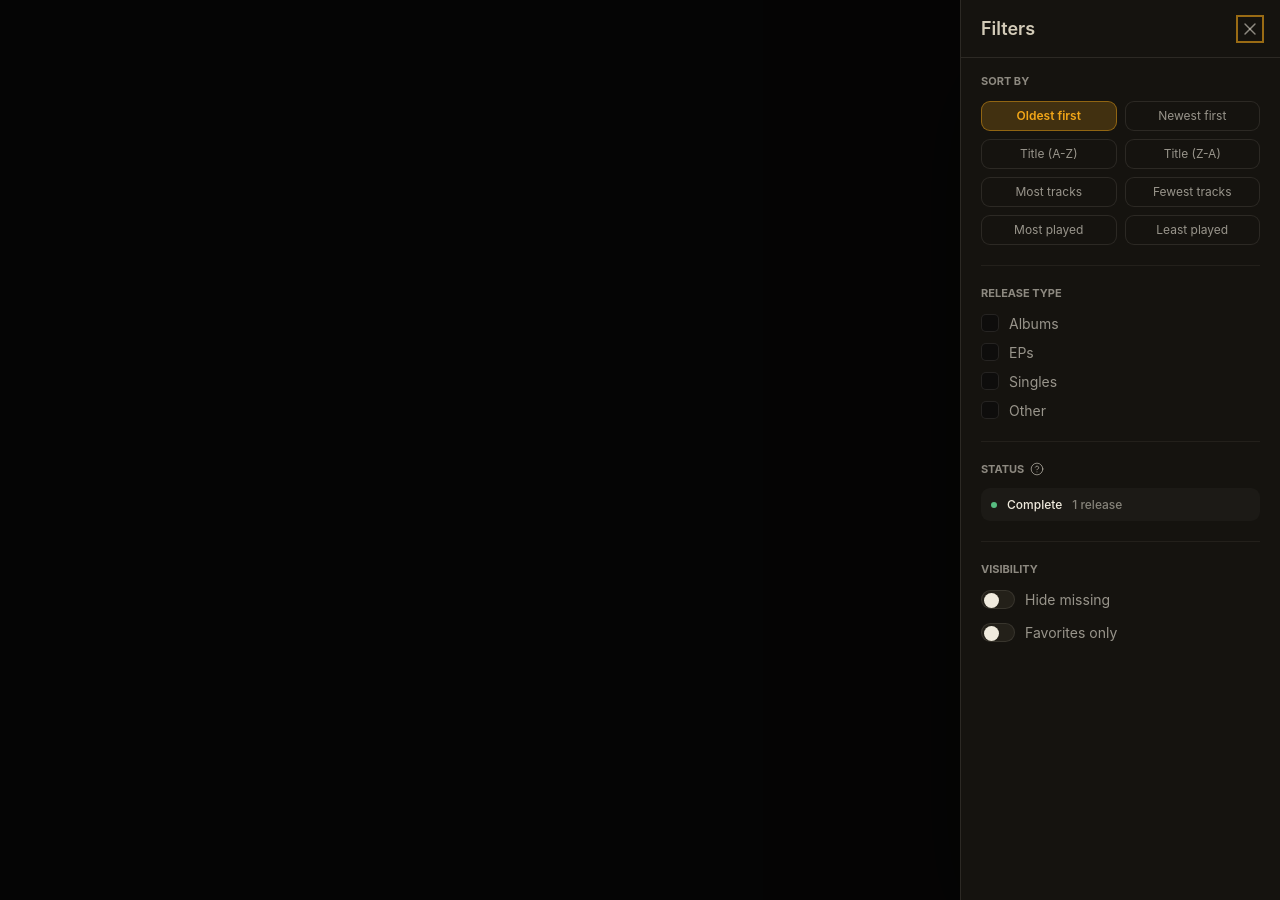
it: artist/FiltersSidebar.vue › the legend shows every status description once toggled open
Click the button named "Toggle status legend". click: click(1037, 469)
box: left=1030, top=462, right=1044, bottom=476
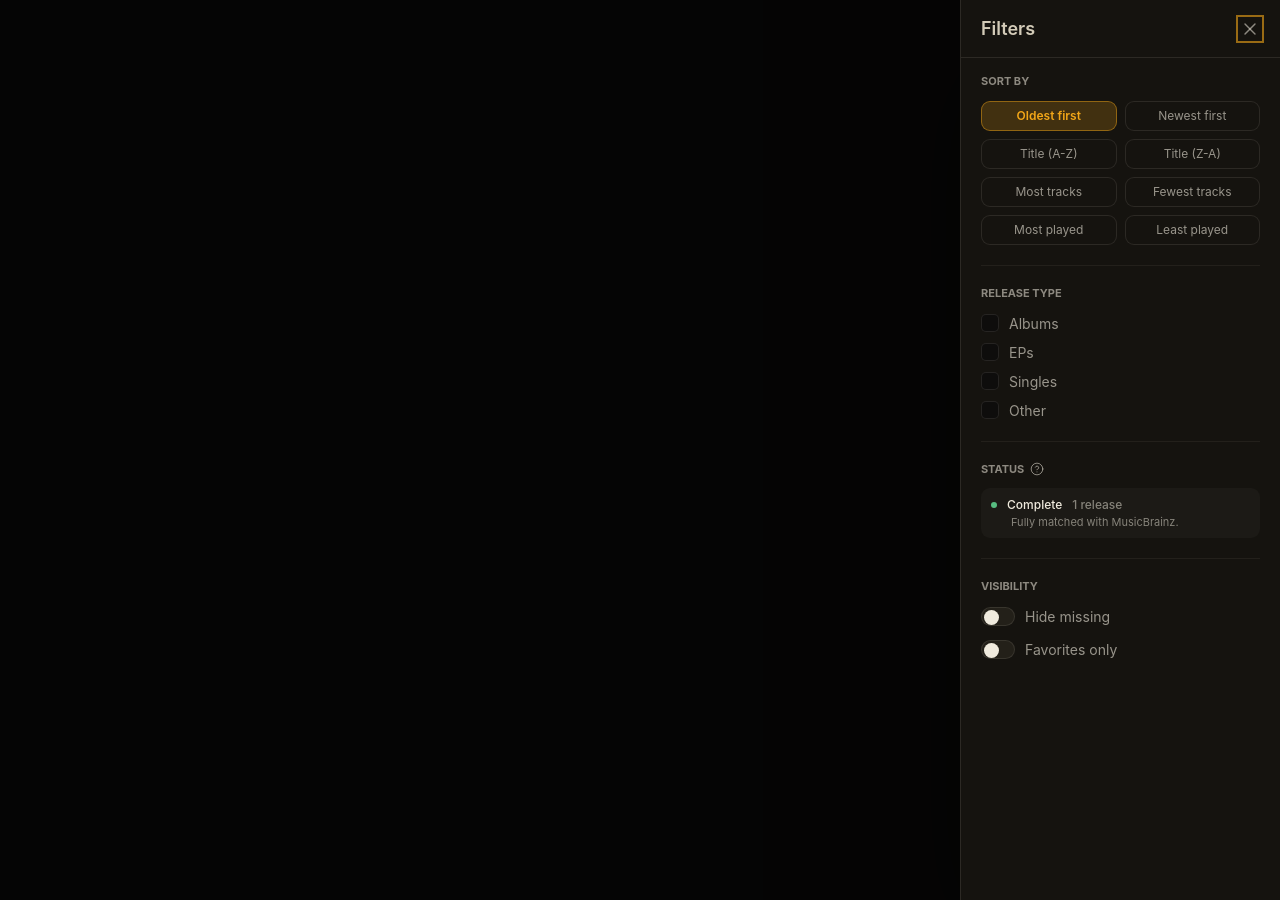
expect the text "Fully matched with MusicBrainz." is shown: met, box left=991, top=515, right=1179, bottom=530
